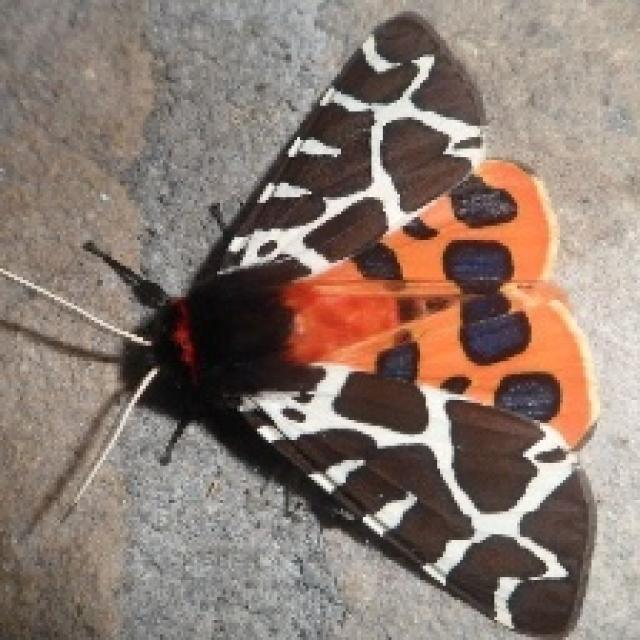butterfly: (0, 9, 600, 637)
